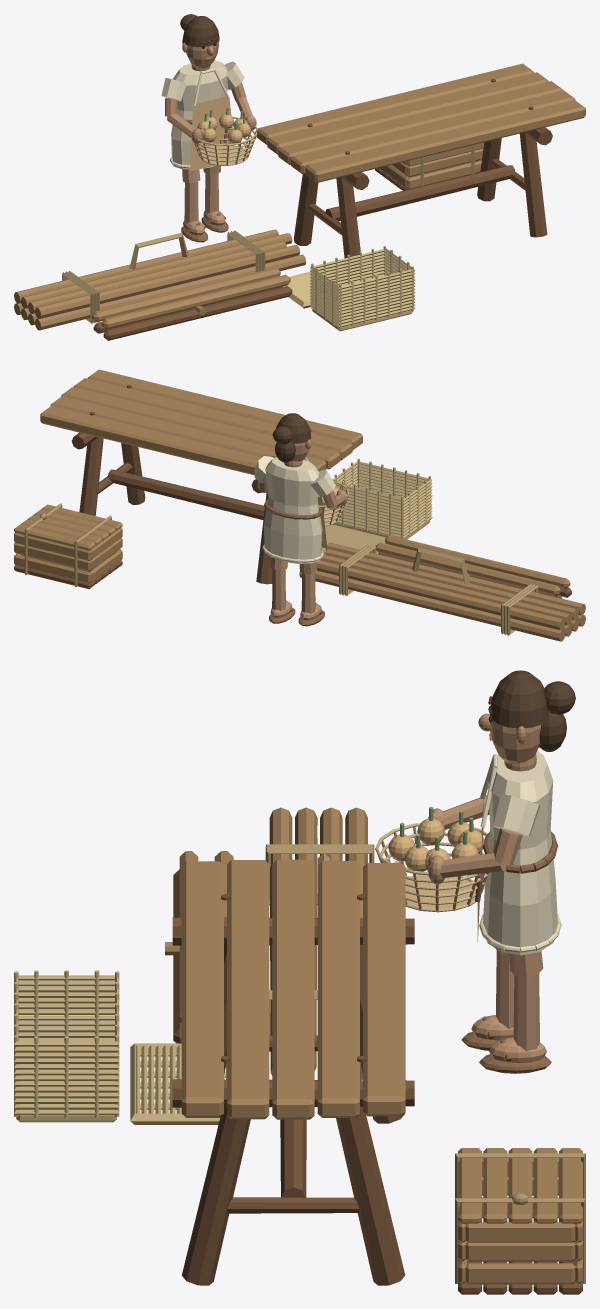
3 renders of one model, top to bottom at view 1: azimuth 30°, elevation 25°; view 2: azimuth 150°, elevation 25°; view 3: azimuth 270°, elevation 25°, orthographic. The views are drawn at different scales.
Visible parts, largest first — view 1: BA-0091 batched; view 2: BA-0091 batched; view 3: BA-0091 batched.
Part boxes in pixels (<box>): BA-0091 batched: <box>14,14,585,340</box>; BA-0091 batched: <box>14,369,585,641</box>; BA-0091 batched: <box>14,670,585,1294</box>.
Size of the model in its own units: 4.34 by 1.7 by 2.27.
